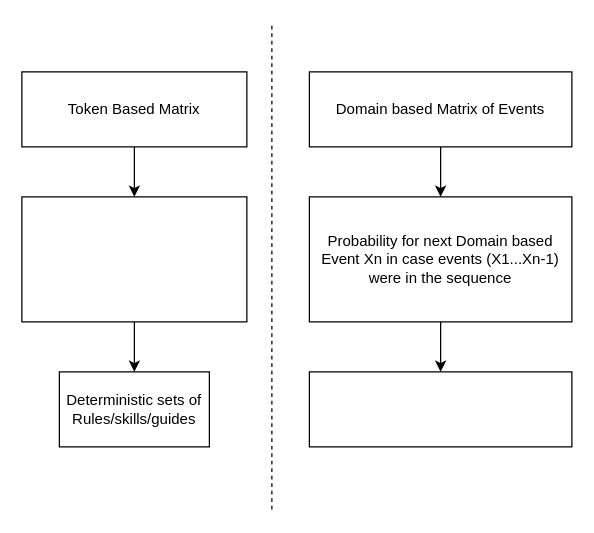
Image size: 594x533. Some labels were removed from this diagram. Here are the shapes that lost their labels. From the top down, the box of each, then its label:
(21, 196, 247, 322): Probability for next token Xn in case (X1...Xn-1) were in the text
(308, 371, 572, 447): Non deterministic Learning Design pattern based on relation between domains
